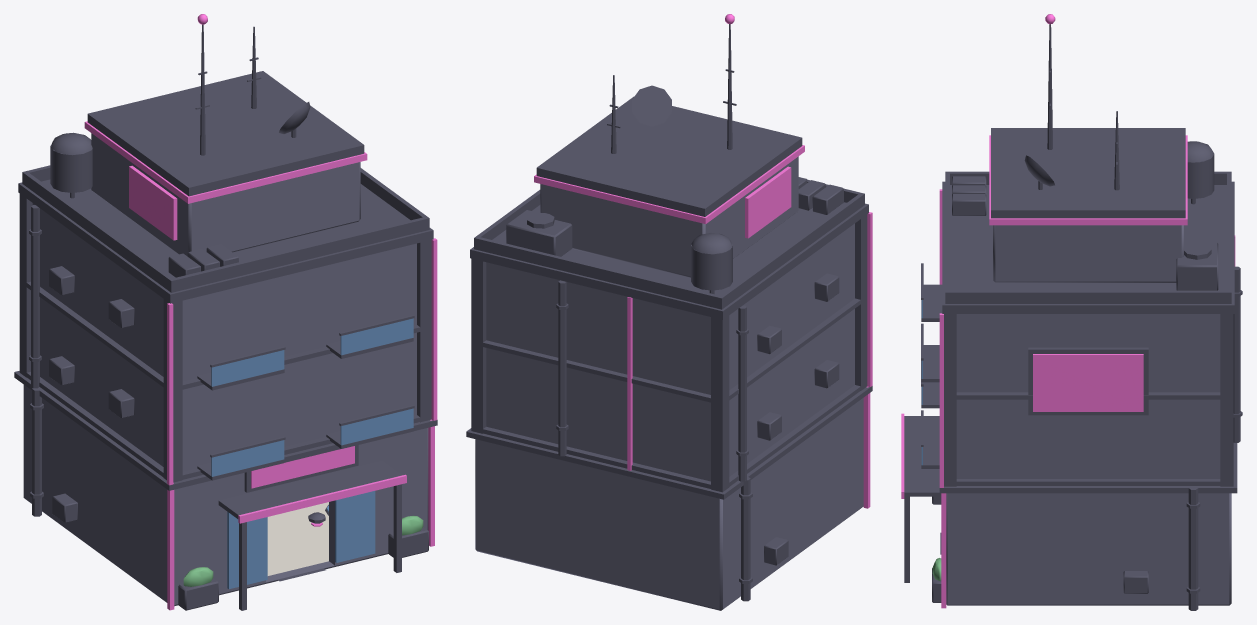
The model's file is VerticeBloque.fbx.
The picture shows the model from 3 angles, left to right: view 1: azimuth 30°, elevation 25°; view 2: azimuth 150°, elevation 25°; view 3: azimuth 270°, elevation 25°; orthographic projection. The views are drawn at different scales.
Parts seen in each view (by area): view 1: VerticeBloque_Medio_Cuerpo, VerticeBloque_Tope_Metal, VerticeBloque_Base_Cuerpo, VerticeBloque_Medio_Metal, VerticeBloque_Tope_Cuerpo, VerticeBloque_Base_Metal, VerticeBloque_Medio_Cristal, VerticeBloque_Base_Luz, VerticeBloque_Base_Cristal, VerticeBloque_Tope_Luz, VerticeBloque_Base_Forro, VerticeBloque_Medio_Luz (+1 smaller); view 2: VerticeBloque_Medio_Cuerpo, VerticeBloque_Base_Cuerpo, VerticeBloque_Tope_Metal, VerticeBloque_Medio_Metal, VerticeBloque_Tope_Cuerpo, VerticeBloque_Base_Metal, VerticeBloque_Tope_Luz, VerticeBloque_Medio_Luz, VerticeBloque_Base_Luz; view 3: VerticeBloque_Tope_Metal, VerticeBloque_Medio_Cuerpo, VerticeBloque_Base_Cuerpo, VerticeBloque_Medio_Metal, VerticeBloque_Tope_Cuerpo, VerticeBloque_Medio_Luz, VerticeBloque_Base_Metal, VerticeBloque_Tope_Luz, VerticeBloque_Base_Luz.
Part boxes in pixels (x1,y1,x2,y2): VerticeBloque_Medio_Cuerpo: (32,203,416,471); VerticeBloque_Tope_Metal: (18,24,433,303); VerticeBloque_Base_Cuerpo: (23,385,428,606); VerticeBloque_Medio_Metal: (19,193,431,482); VerticeBloque_Tope_Cuerpo: (91,133,360,256); VerticeBloque_Base_Metal: (14,371,437,610); VerticeBloque_Medio_Cristal: (211,318,413,476); VerticeBloque_Base_Luz: (167,419,434,610); VerticeBloque_Base_Cristal: (227,491,375,589); VerticeBloque_Tope_Luz: (84,14,367,240); VerticeBloque_Base_Forro: (267,502,328,575); VerticeBloque_Medio_Luz: (167,238,437,485); VerticeBloque_Medio_Cuerpo: (486,223,854,481); VerticeBloque_Base_Cuerpo: (475,398,863,610); VerticeBloque_Tope_Metal: (470,24,868,319); VerticeBloque_Medio_Metal: (471,214,867,492); VerticeBloque_Tope_Cuerpo: (540,156,798,277); VerticeBloque_Base_Metal: (466,386,872,601); VerticeBloque_Tope_Luz: (534,14,804,238); VerticeBloque_Medio_Luz: (627,212,872,470); VerticeBloque_Base_Luz: (863,386,870,508); VerticeBloque_Tope_Metal: (942,24,1234,313); VerticeBloque_Medio_Cuerpo: (956,314,1220,478); VerticeBloque_Base_Cuerpo: (946,493,1231,605); VerticeBloque_Medio_Metal: (921,263,1242,486); VerticeBloque_Tope_Cuerpo: (993,225,1183,282); VerticeBloque_Medio_Luz: (939,189,1235,487); VerticeBloque_Base_Metal: (904,416,1237,610); VerticeBloque_Tope_Luz: (989,14,1187,225); VerticeBloque_Base_Luz: (901,413,946,608).
Bounding box in the file's own units: 3320 × 5915 × 3575.
